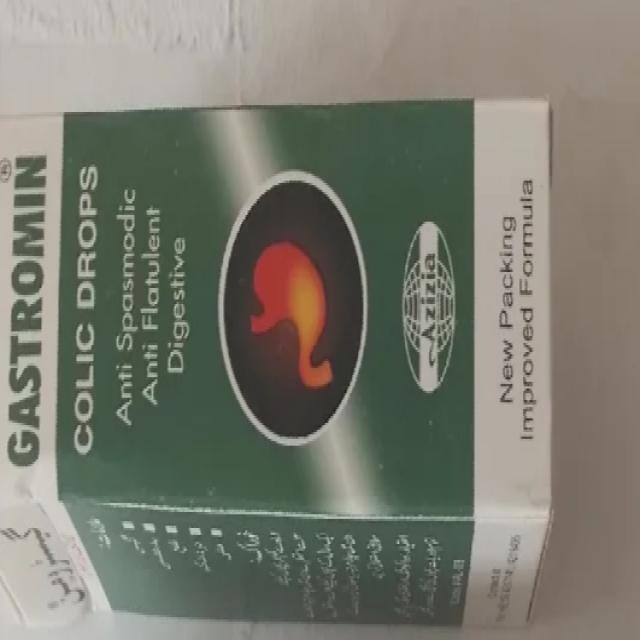drug-name: (6, 152, 54, 476)
